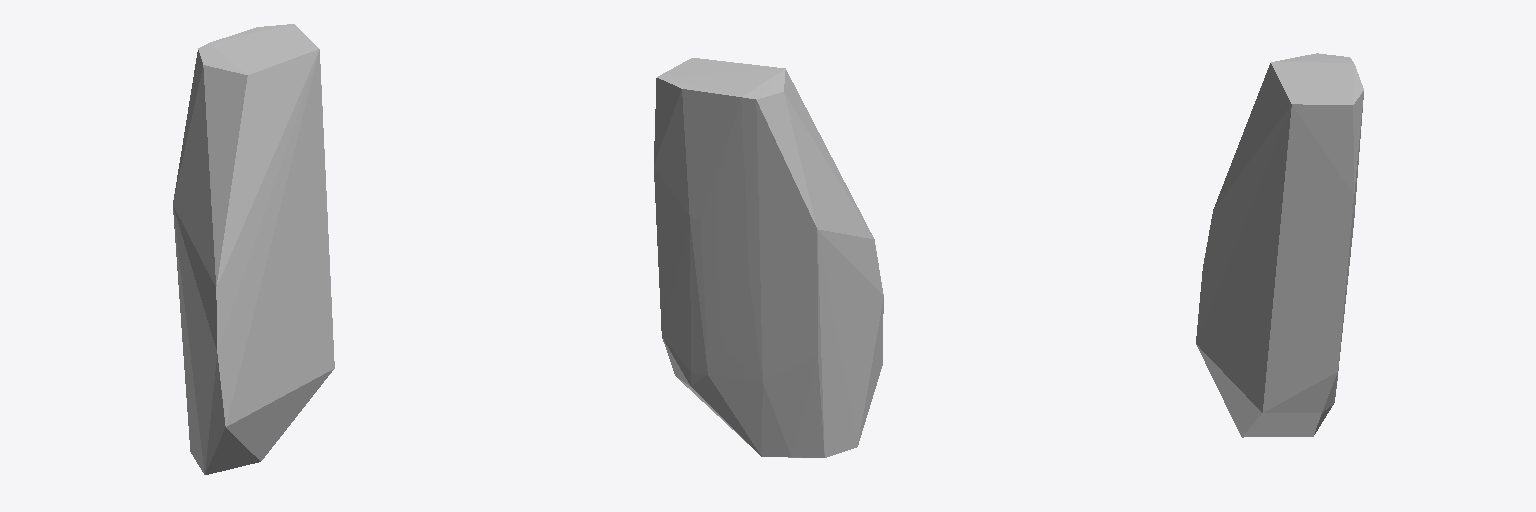
The model's file is trash_bin_collision_0.obj.
The picture shows the model from 3 angles: view 1: azimuth 30°, elevation 25°; view 2: azimuth 150°, elevation 25°; view 3: azimuth 270°, elevation 25°; orthographic projection.
Size of the model in its own units: 0.0388 by 0.0905 by 0.0367.